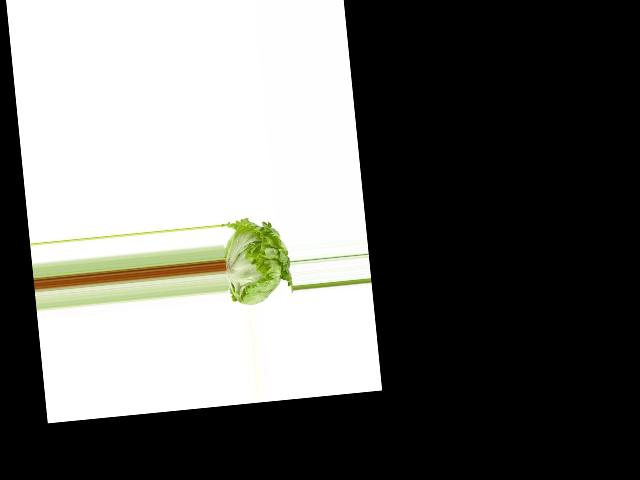lettuce: (220, 211, 293, 309)
